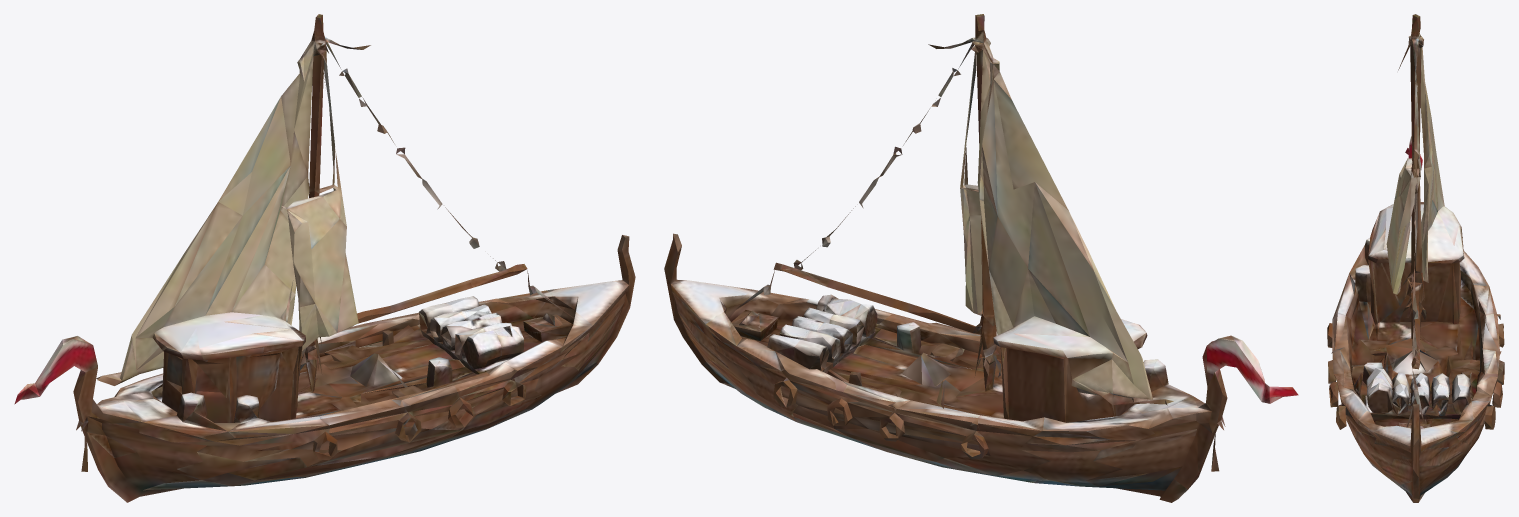
The model's file is trawler.glb.
3 views of the same model, side by side, from view 1: azimuth 30°, elevation 25°; view 2: azimuth 150°, elevation 25°; view 3: azimuth 270°, elevation 25° (orthographic). The views are drawn at different scales.
Size of the model in its own units: 1.9 by 1.27 by 0.53.
1 material, 1 textured.
